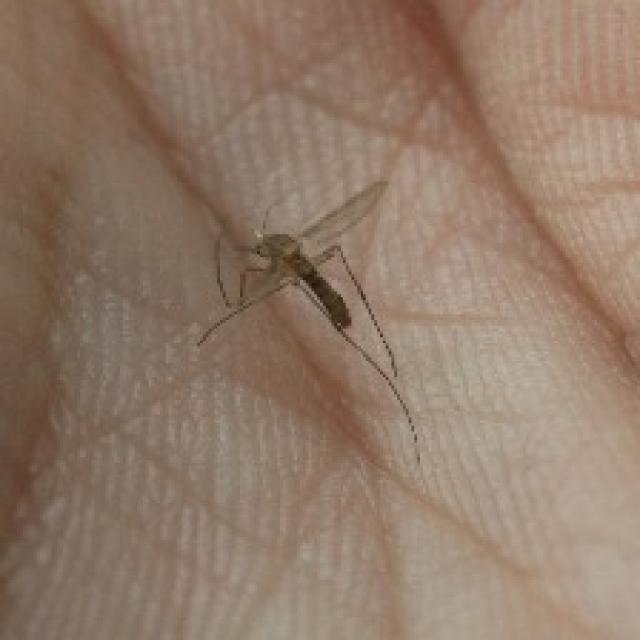culex: (194, 174, 420, 463)
